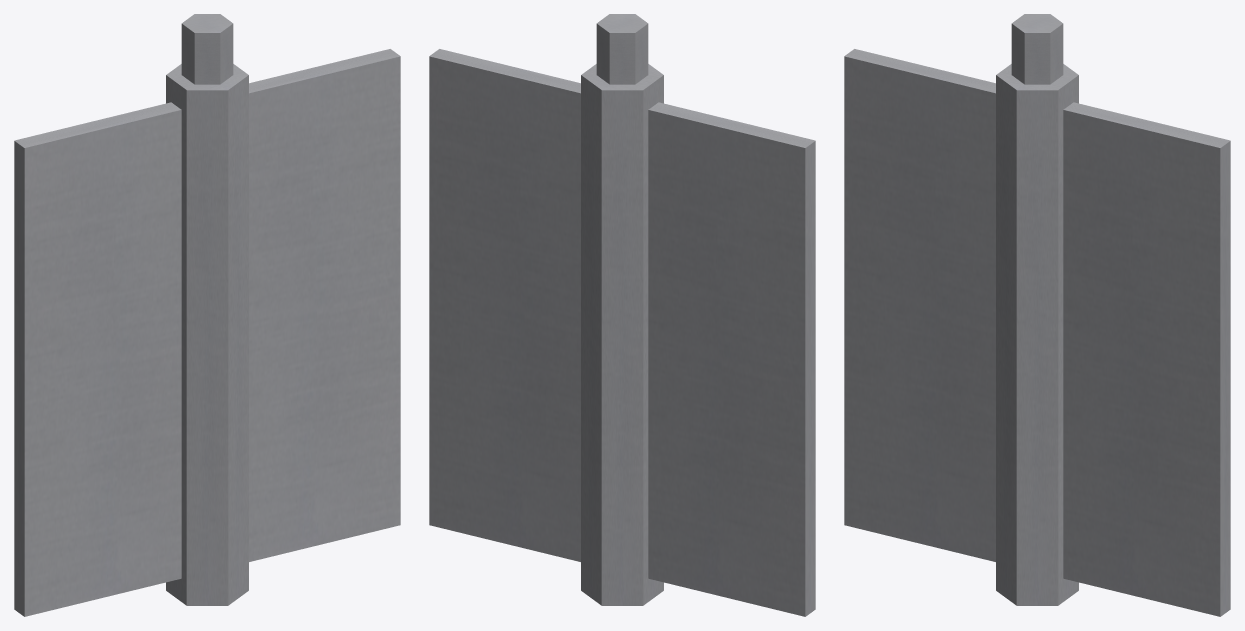
The model's file is Door_Hinge.fbx.
3 renders of one model, left to right at view 1: azimuth 30°, elevation 25°; view 2: azimuth 150°, elevation 25°; view 3: azimuth 330°, elevation 25°, orthographic.
Visible parts, largest first — view 1: Door_Hinge; view 2: Door_Hinge; view 3: Door_Hinge.
Part boxes in pixels (x1,y1,x2,y2): Door_Hinge: (14, 14, 400, 616); Door_Hinge: (429, 14, 815, 616); Door_Hinge: (844, 14, 1230, 616).
Size of the model in its own units: 0.084 by 0.121 by 0.016.
